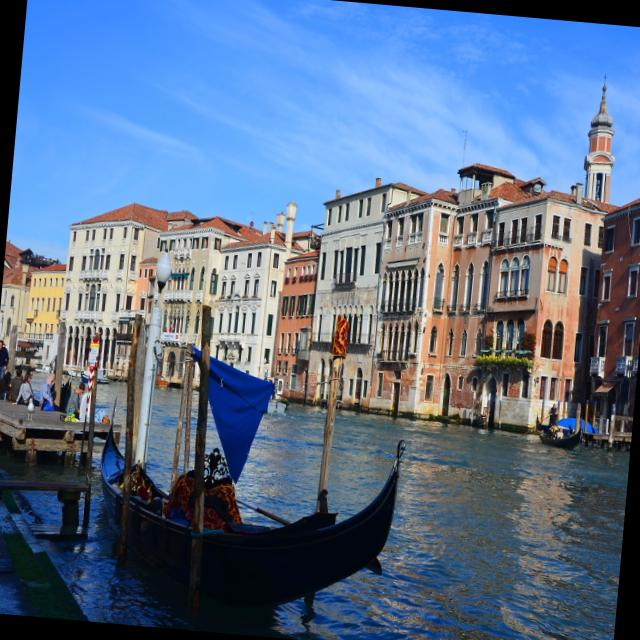boat: (69, 389, 427, 640)
